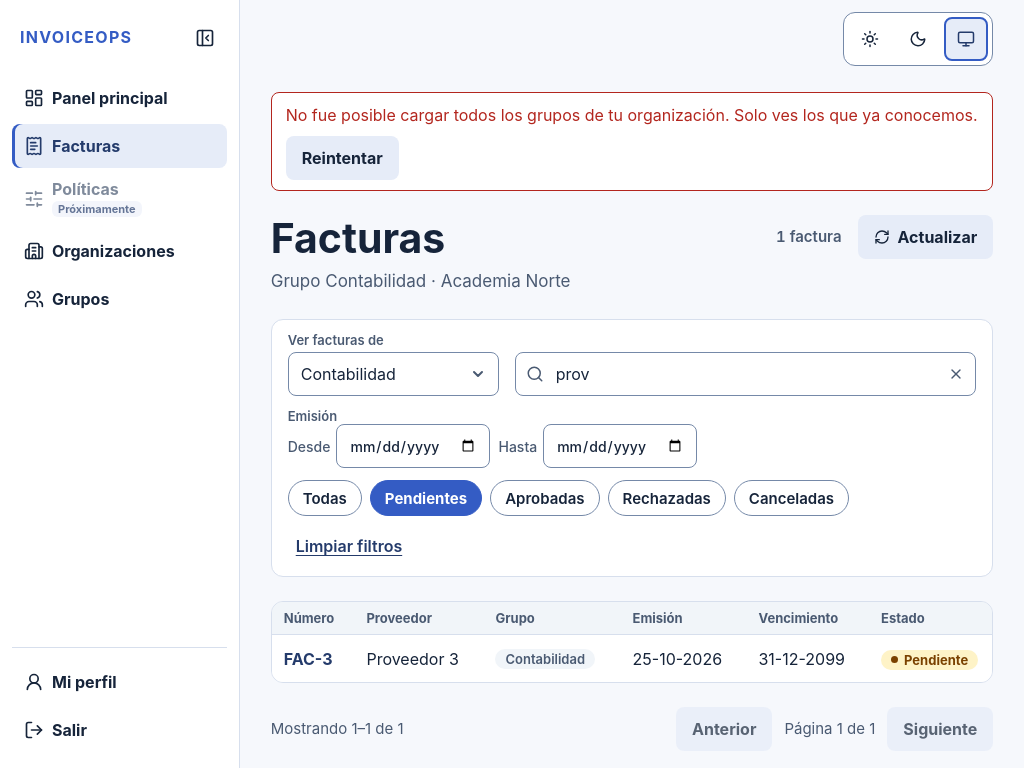
invoice detail (AC-19) › opens from an inbox row and goes back to the inbox with its filters
The width and height of the screenshot is (1024, 768).
Click the link "FAC-3".
click(308, 659)  # box top-left (284, 649), bottom-right (332, 669)
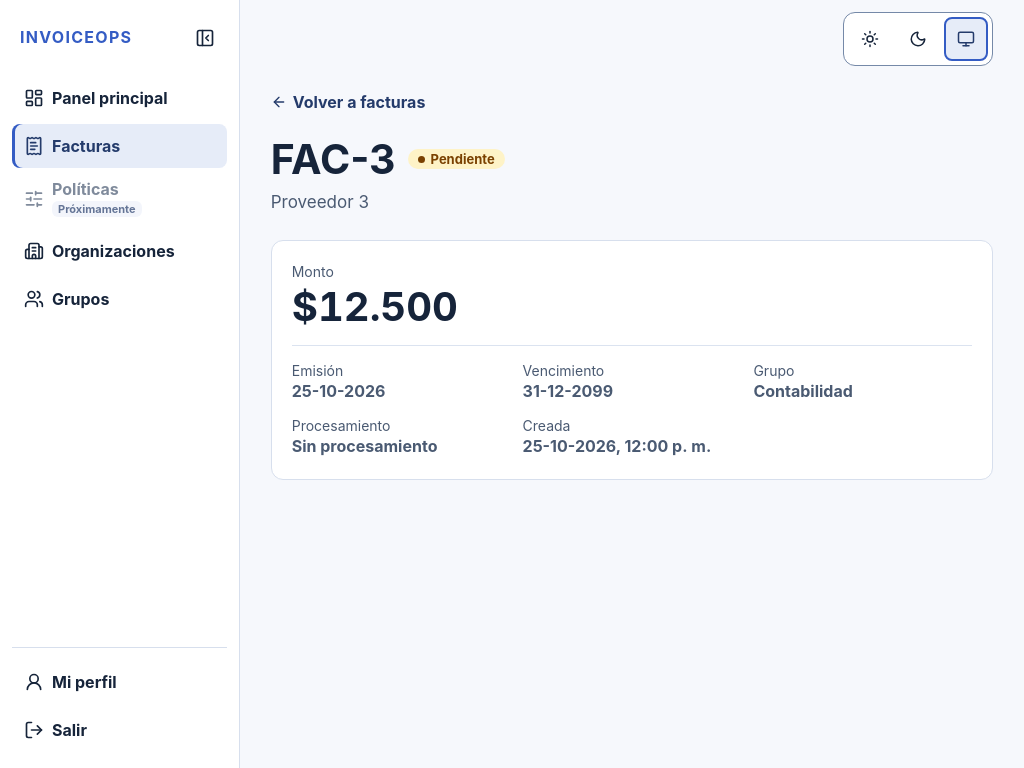
Check: the heading "FAC-3" is shown, box top-left (271, 136), bottom-right (396, 183)
Click the link "Volver a facturas".
click(348, 102)  # box top-left (271, 92), bottom-right (425, 112)
(page scrolled)
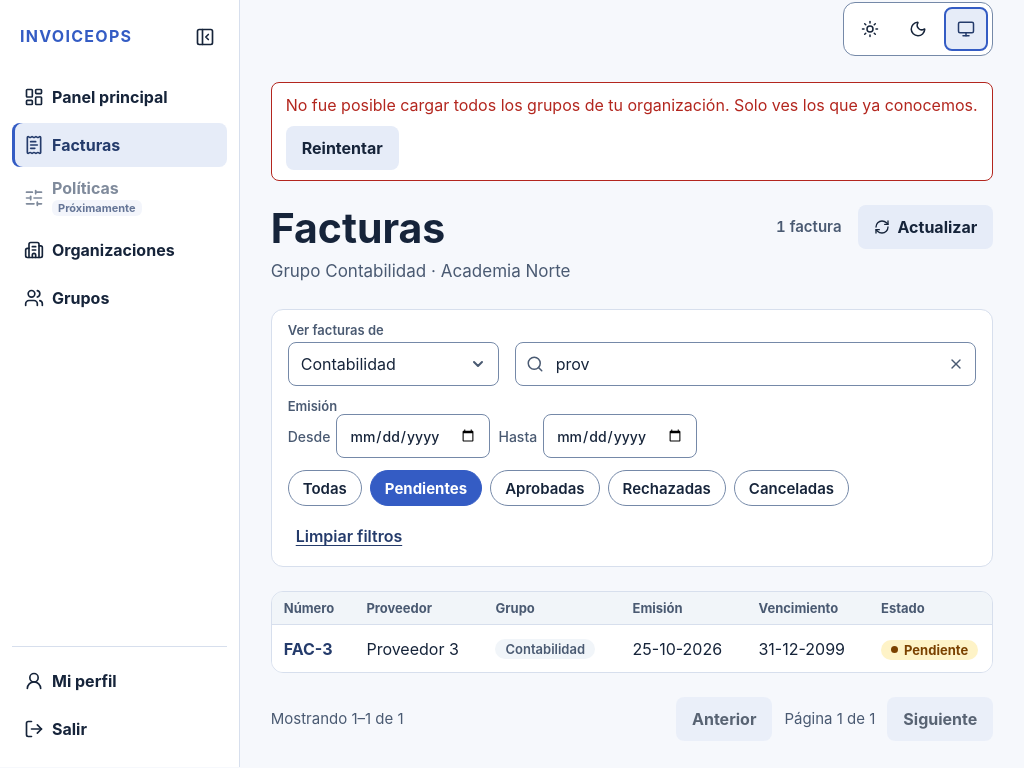
Check: the table named "Facturas" is shown, box top-left (272, 592), bottom-right (993, 672)
